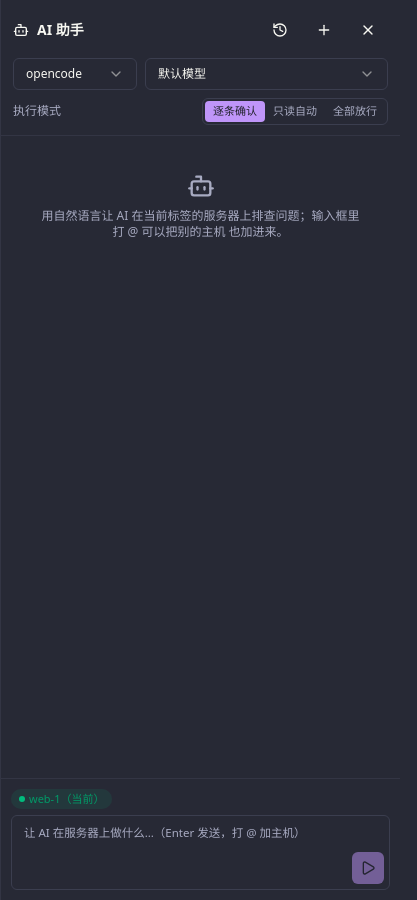
AI 文字按帧合并显示 › 文字、工具、文字：顺序不乱（工具开始前先把攒的文字写进去）
The width and height of the screenshot is (417, 900).
Click the button titled "新对话": (324, 30) [304,10,344,50]
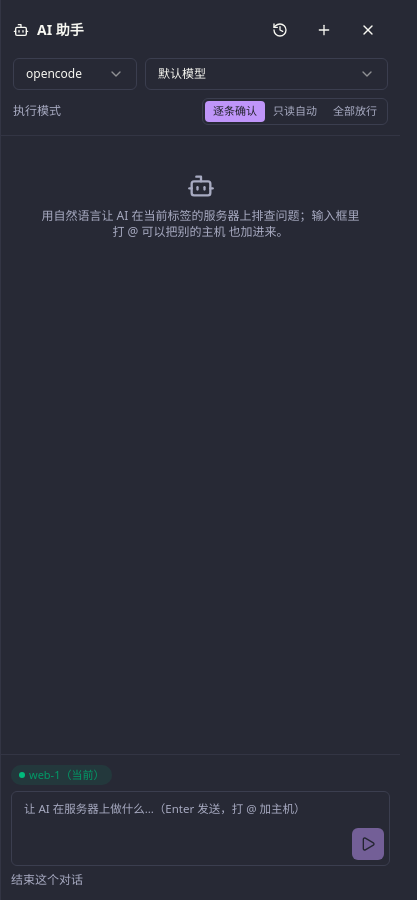
In the text box with placeholder "让 AI 在服务器上做什么…（Enter 发送，打 @ 加主机）": (200, 828) [11,791,390,866], type "看看磁盘"
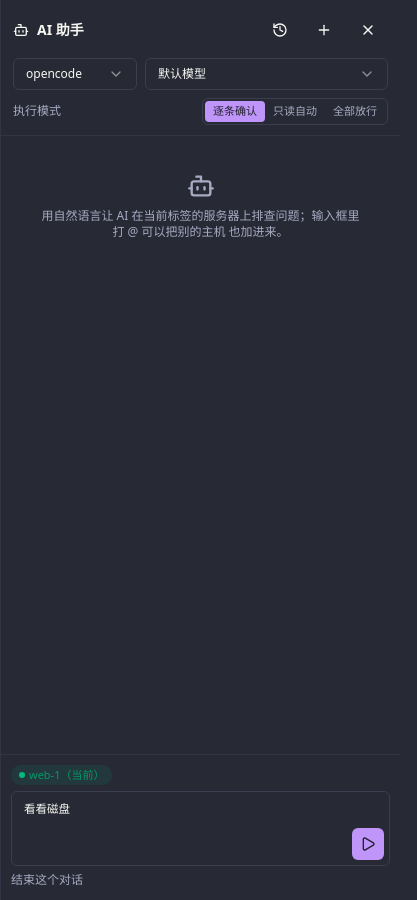
Click the button titled "发送": (368, 844) [352,828,384,860]
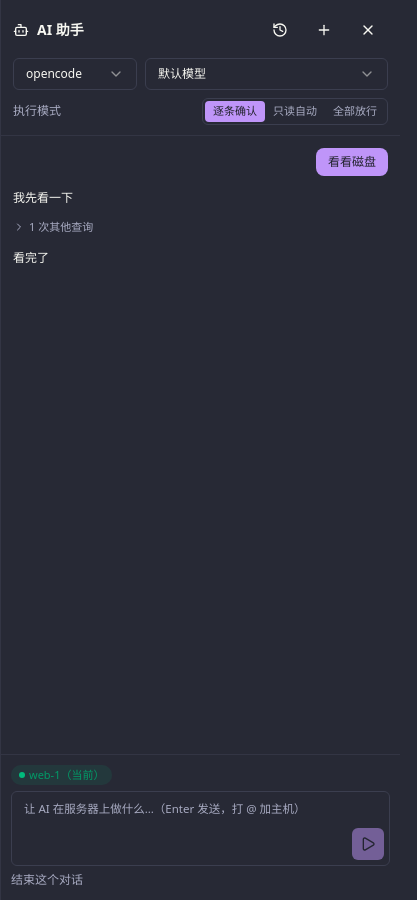
Check: the text "我先看一下" is shown, box [13,188,73,206]
Check: the text "看完了" is shown, box [13,248,49,266]
